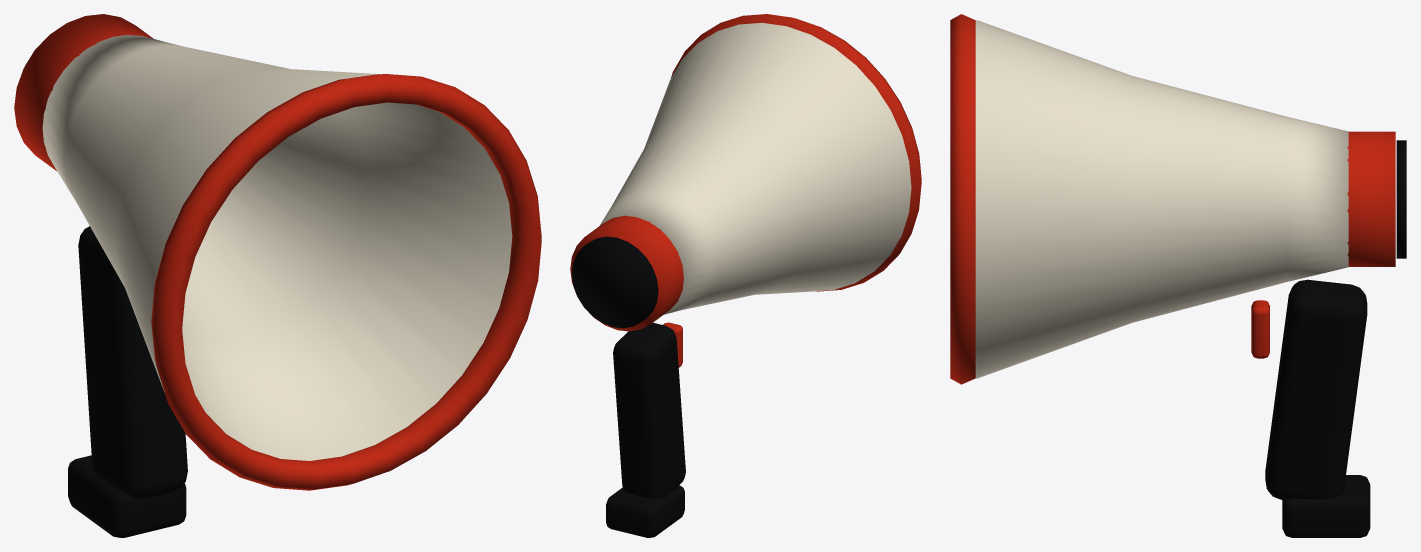
File: megaphone.glb
The picture shows the model from 3 angles, left to right: view 1: azimuth 30°, elevation 25°; view 2: azimuth 150°, elevation 25°; view 3: azimuth 270°, elevation 25°; orthographic projection. The views are drawn at different scales.
Visible parts, largest first — view 1: megaphone; view 2: megaphone; view 3: megaphone.
Boxes of the visible parts, box(x1,y1,x2,y2) form: megaphone: box(14, 14, 541, 537); megaphone: box(570, 14, 921, 537); megaphone: box(950, 14, 1406, 537).
Size of the model in its own units: 0.3 by 0.442 by 0.369.
1 material, 1 textured.
